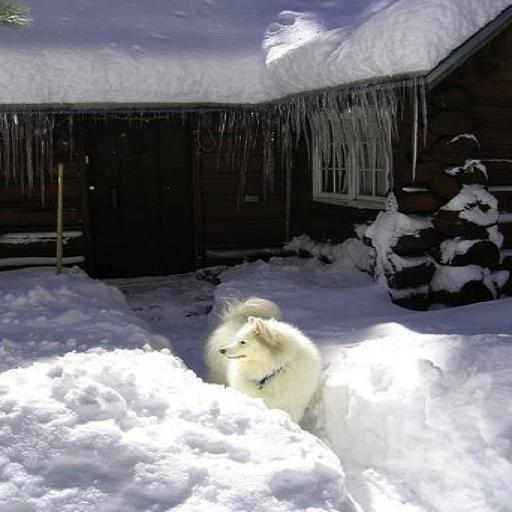dog_face: (203, 304, 278, 366)
